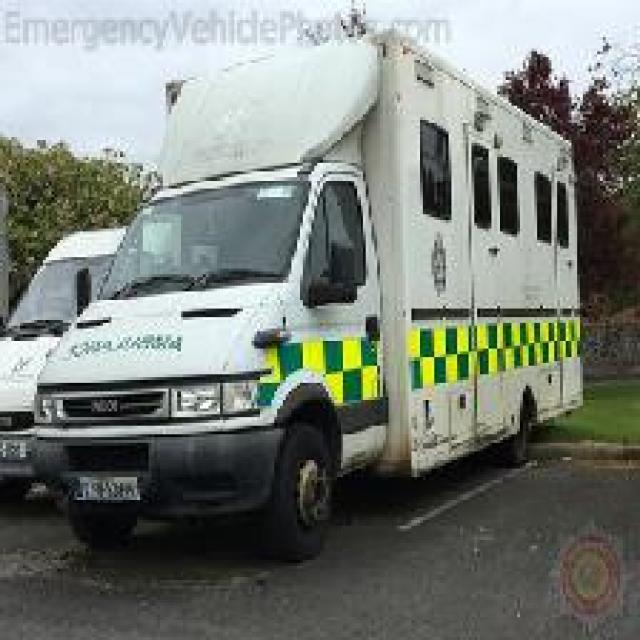Ambulance: (28, 20, 586, 560)
Truck: (0, 223, 140, 503)
